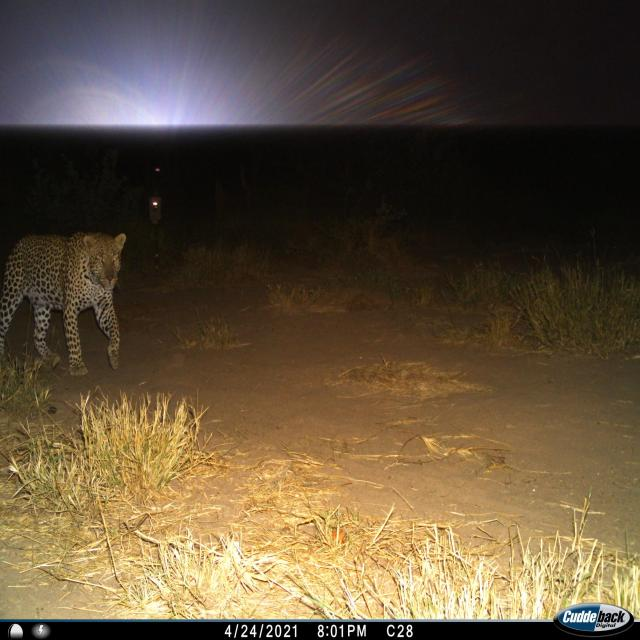Leopard: (0, 220, 128, 386)
